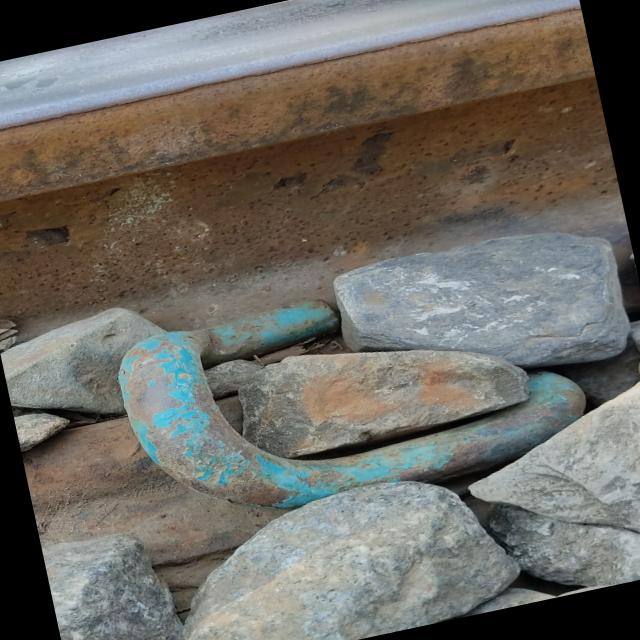track_bolt: (69, 233, 609, 558)
